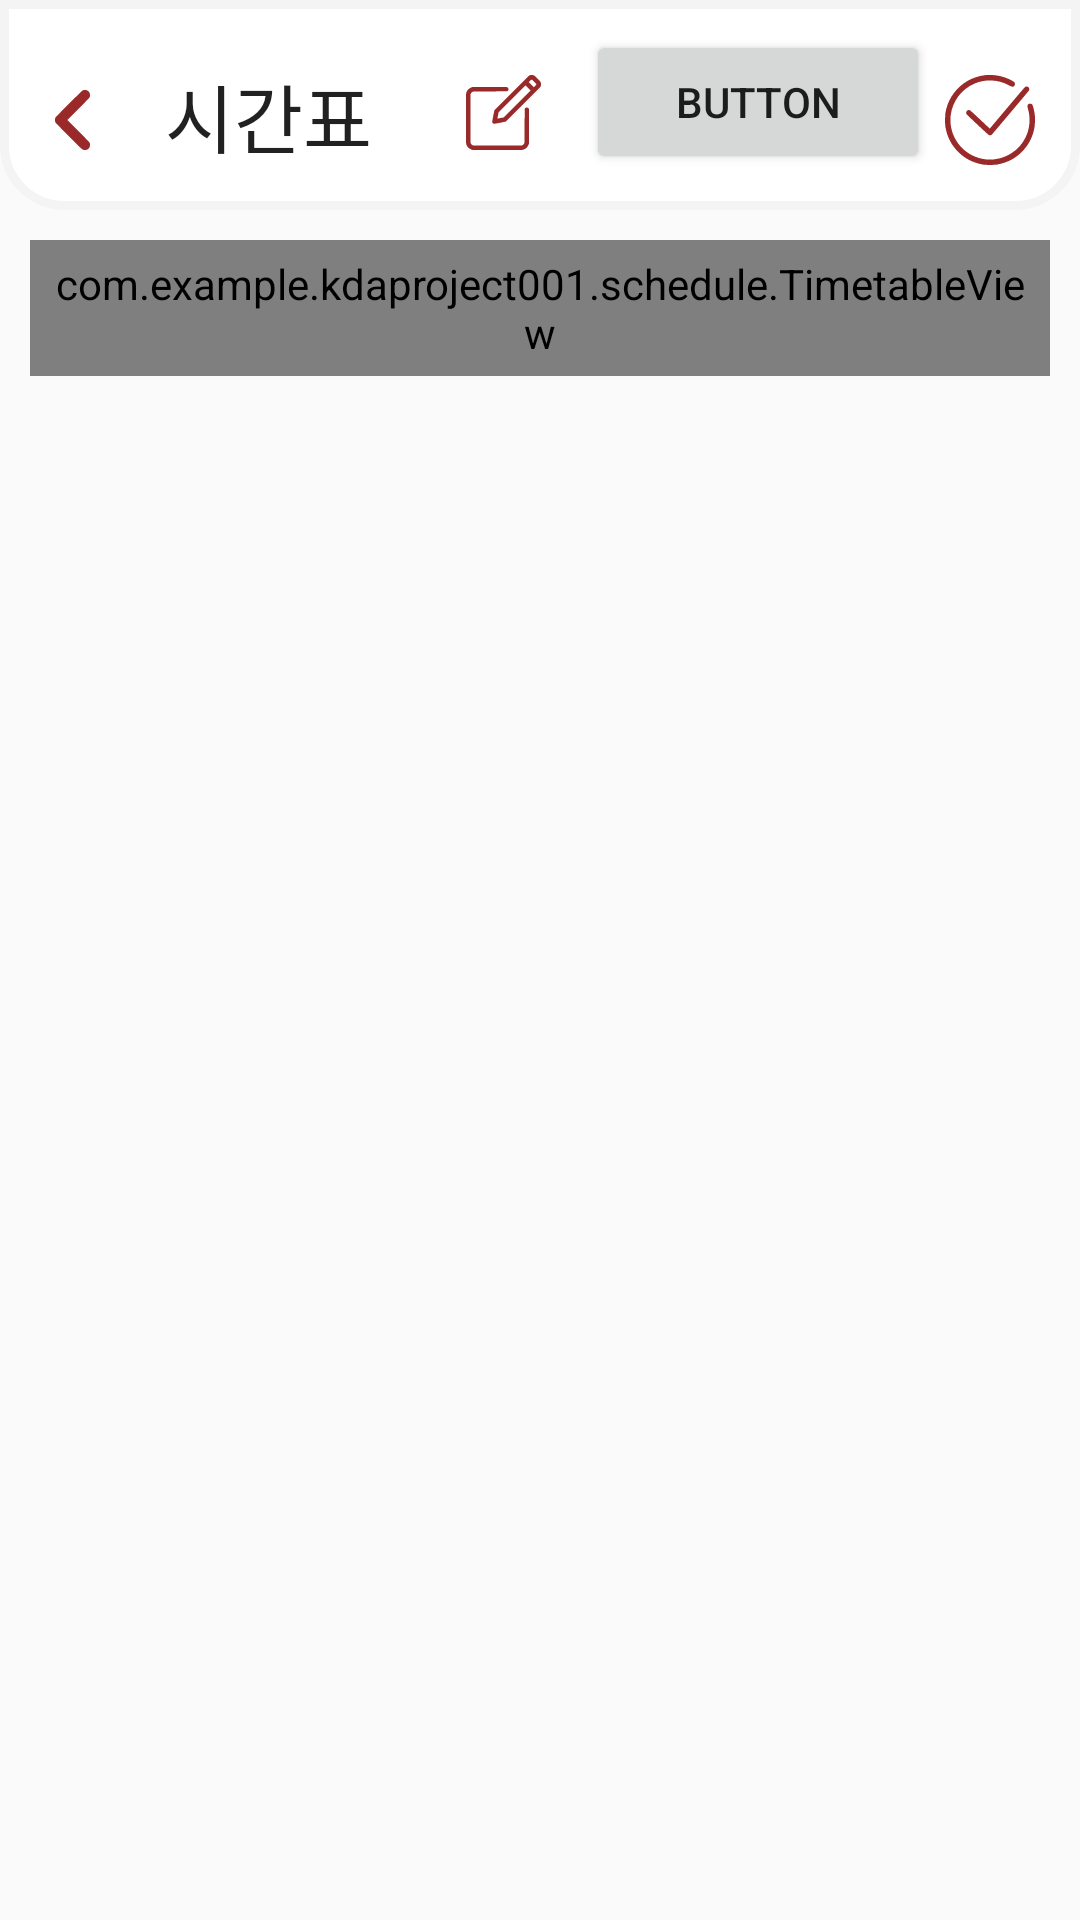

Point at icon controls on the screen. Image size 1080px×1920px, points as [x,y].
before: [72,120]
editing: [503,112]
save: [990,120]
